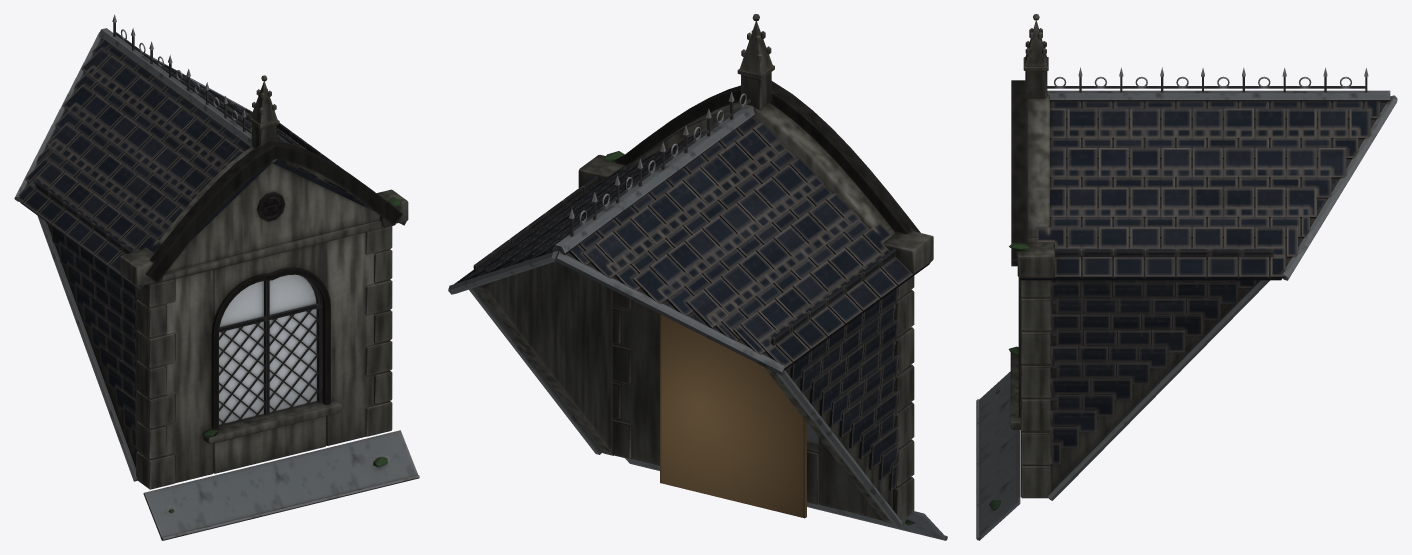
Rendered from Dormer.fbx.
3 views of the same model, side by side, from view 1: azimuth 30°, elevation 25°; view 2: azimuth 150°, elevation 25°; view 3: azimuth 270°, elevation 25° (orthographic). The views are drawn at different scales.
Parts seen in each view (by area): view 1: Dormer_Main, Dormer_Glass; view 2: Dormer_Main; view 3: Dormer_Main.
Part boxes in pixels (x1,y1,x2,y2): Dormer_Main: (14, 14, 419, 540); Dormer_Glass: (219, 274, 316, 424); Dormer_Main: (448, 14, 947, 540); Dormer_Main: (976, 14, 1397, 540).
Bounding box in the file's own units: 510 × 742 × 619.
